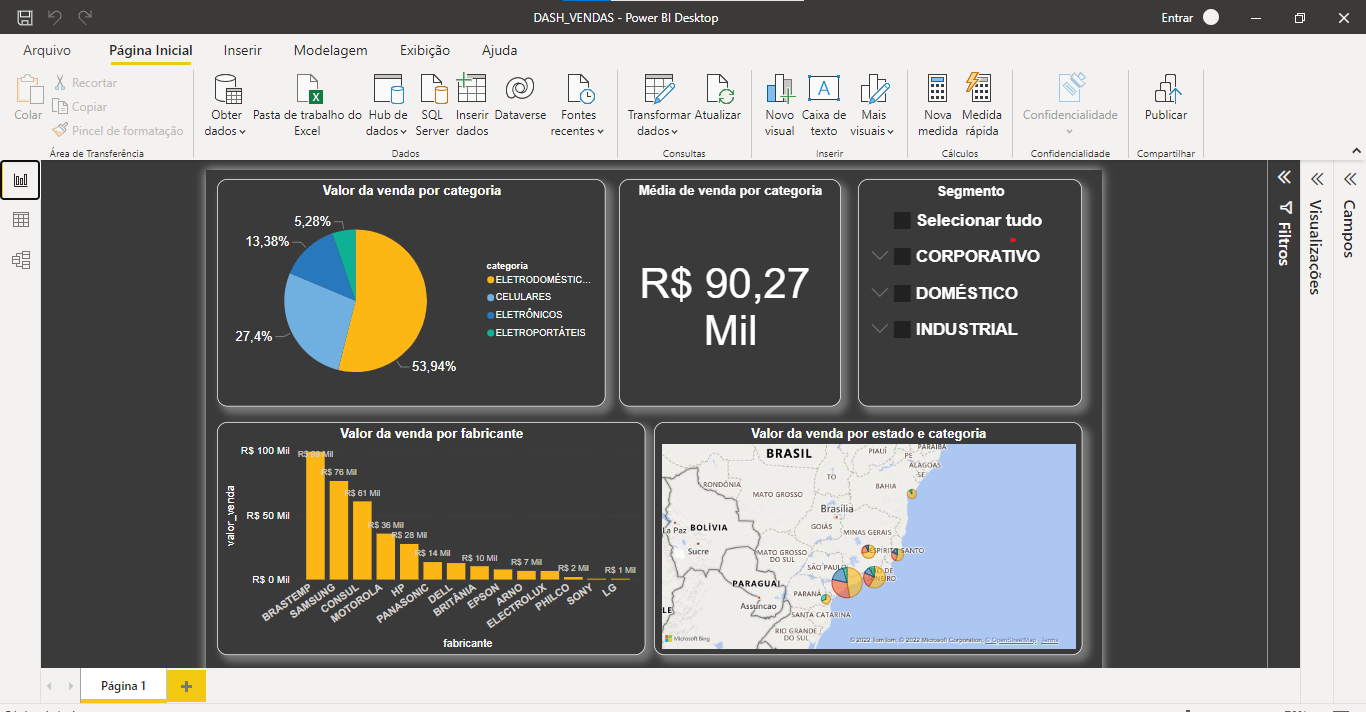

The page's visual inventory and layout, read from the dashboard file:
{"tool":"powerbi","page":{"name":"Página 1","canvas":[1280,720],"ordinal":0},"visuals":[{"type":"columnChart","title":"Valor da venda por fabricante","fields":{"Category":["DIM_PRODUTOS.fabricante"],"Y":["Sum(DIM_FATO.valor_venda)"]},"box":[15,360,611.7,333.3],"z":0},{"type":"pieChart","title":"Valor da venda por categoria","fields":{"Y":["Sum(DIM_FATO.valor_venda)"],"Category":["DIM_PRODUTOS.categoria"]},"box":[15,13.3,555,325],"z":1000},{"type":"map","title":"Valor da venda por estado e categoria","fields":{"Category":["DIM_LOCALIDADE.estado"],"Series":["DIM_PRODUTOS.categoria"],"Size":["Sum(DIM_FATO.valor_venda)"]},"box":[640,360,611.7,333.3],"z":2000},{"type":"card","title":"Média de venda por categoria","fields":{"Values":["DIM_FATO.Média de valor_venda por categoria"]},"box":[590,13.3,316.7,325],"z":3000},{"type":"slicer","title":"Segmento","fields":{"Values":["DIM_PRODUTOS.segmento","DIM_FATO.valor_venda","DIM_LOCALIDADE.estado"]},"box":[931.7,13.3,320,325],"z":4000}]}

Visuals, with their boxes in screenshot pixels (x1, y1, x2, y2):
"Valor da venda por fabricante" columnChart: select_region(135, 353, 710, 666)
"Valor da venda por categoria" pieChart: select_region(135, 27, 657, 332)
"Valor da venda por estado e categoria" map: select_region(723, 353, 1297, 666)
"Média de venda por categoria" card: select_region(676, 27, 973, 332)
"Segmento" slicer: select_region(997, 27, 1297, 332)
